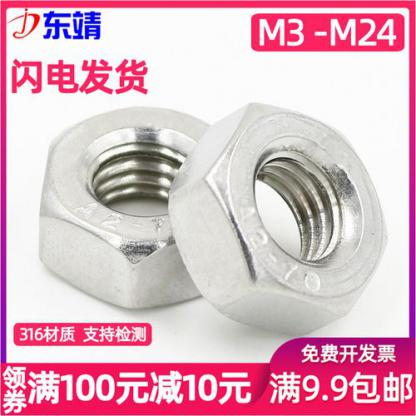FOD: (169, 98, 385, 339), (38, 103, 247, 311)
